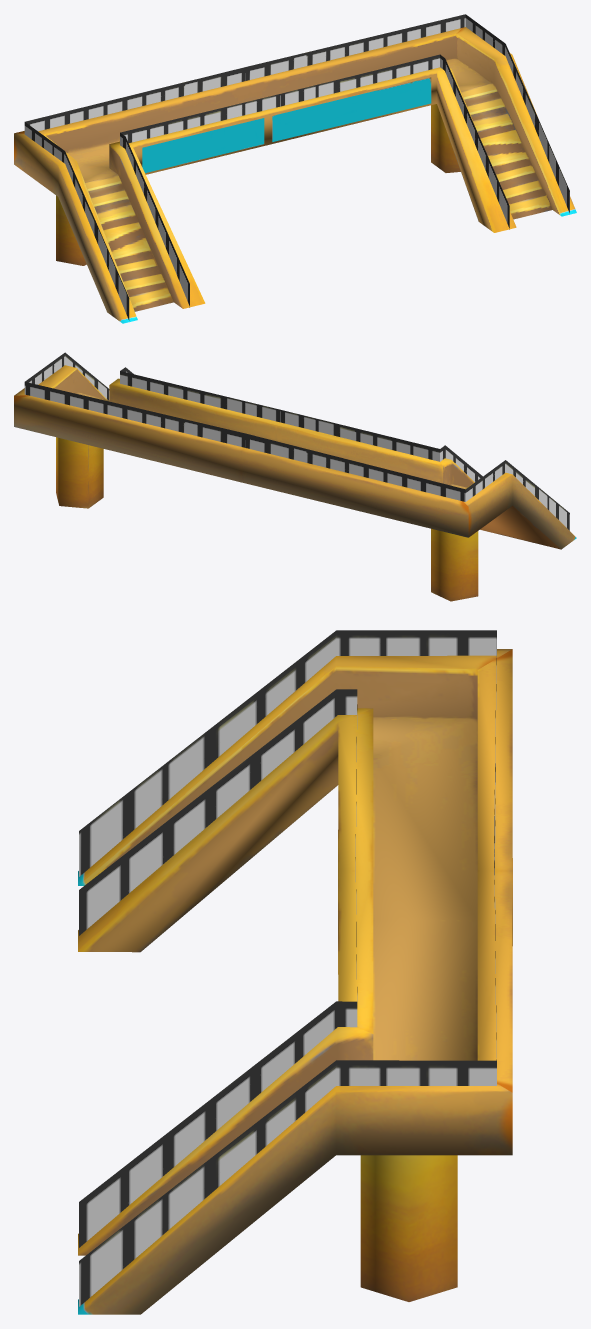
The model's file is pk_model_tianqiao.FBX.
3 renders of one model, top to bottom at view 1: azimuth 30°, elevation 25°; view 2: azimuth 150°, elevation 25°; view 3: azimuth 270°, elevation 25°, orthographic. The views are drawn at different scales.
Visible parts, largest first — view 1: pk_model_tianqiao; view 2: pk_model_tianqiao; view 3: pk_model_tianqiao.
Part boxes in pixels (box(x1,y1,x2,y2)): pk_model_tianqiao: box(14, 14, 576, 323); pk_model_tianqiao: box(14, 352, 576, 601); pk_model_tianqiao: box(78, 630, 512, 1314).
Bounding box in the file's own units: 2195 × 586 × 909.
